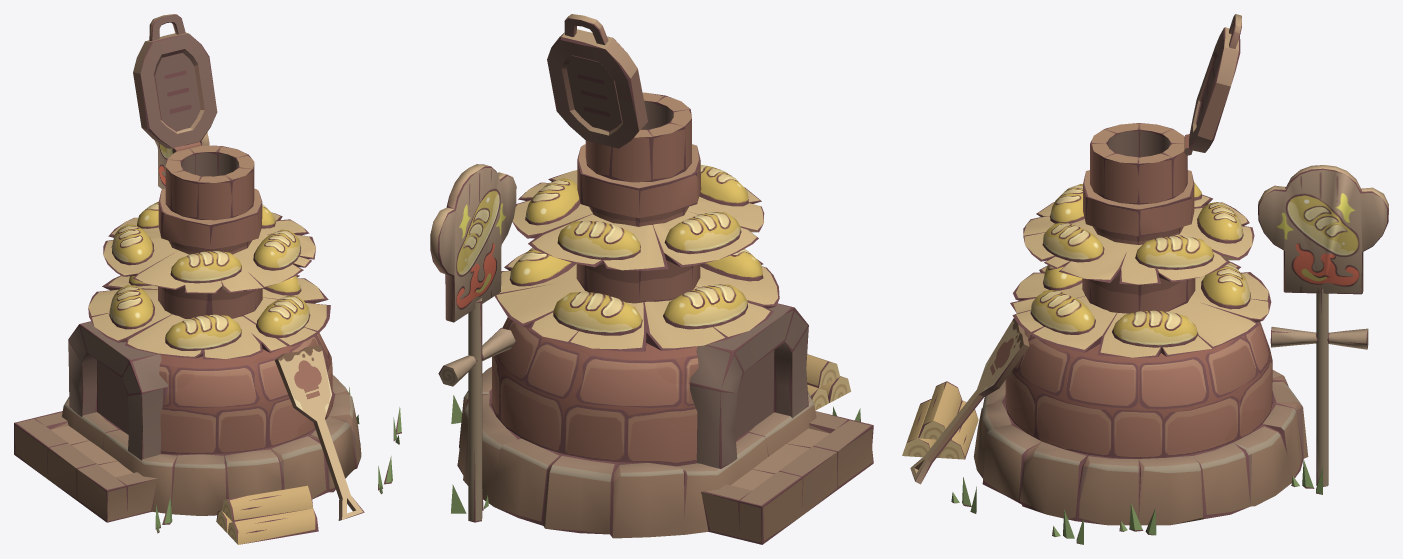
Rendered from Mesh_Home_Cook_SM.FBX.
3 renders of one model, left to right at view 1: azimuth 30°, elevation 25°; view 2: azimuth 150°, elevation 25°; view 3: azimuth 270°, elevation 25°, orthographic. The views are drawn at different scales.
Visible parts, largest first — view 1: Mesh_Home_Cook; view 2: Mesh_Home_Cook; view 3: Mesh_Home_Cook.
Part boxes in pixels (<box>): Mesh_Home_Cook: <box>14,14,401,544</box>; Mesh_Home_Cook: <box>430,14,873,544</box>; Mesh_Home_Cook: <box>902,14,1388,544</box>.
Bounding box in the file's own units: 187 × 229 × 230.
Materials: 1 (1 with a texture image).
